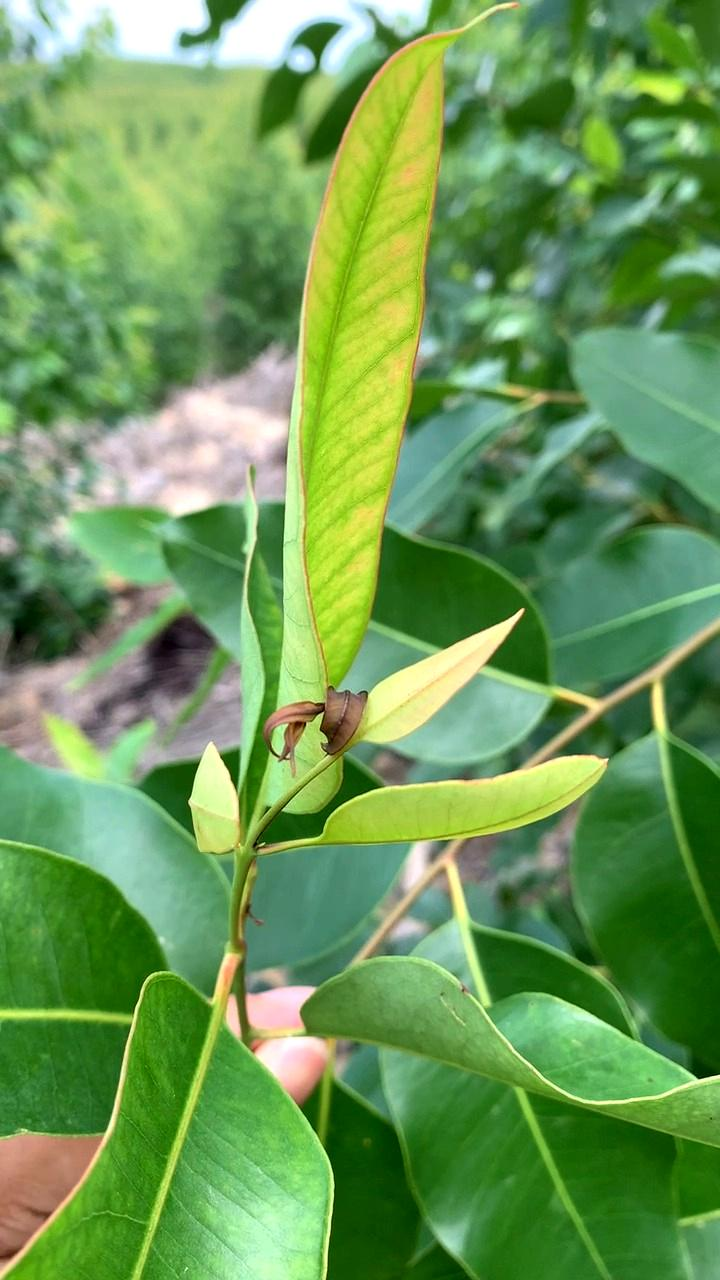Helopeltis-Withered Sprout: (265, 673, 373, 759)
